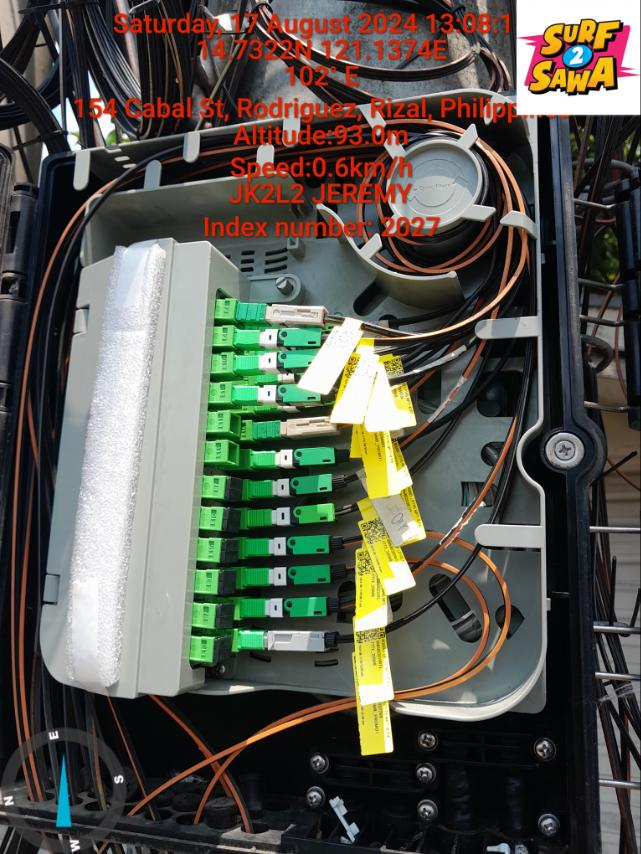no dust cap: (229, 412, 241, 438), (228, 441, 240, 466)
occupied: (243, 560, 348, 590), (253, 411, 345, 445), (251, 471, 349, 500), (248, 501, 341, 529), (241, 594, 337, 621), (252, 445, 351, 471), (237, 628, 337, 653), (246, 533, 342, 559), (237, 300, 329, 327), (235, 349, 325, 375), (232, 384, 338, 405), (256, 388, 342, 412), (236, 327, 321, 349), (258, 364, 338, 385), (259, 340, 334, 360), (264, 319, 337, 334)
vacant: (215, 635, 232, 662), (224, 507, 241, 533), (223, 539, 240, 563), (221, 570, 237, 595), (218, 604, 234, 628), (228, 478, 243, 501)
